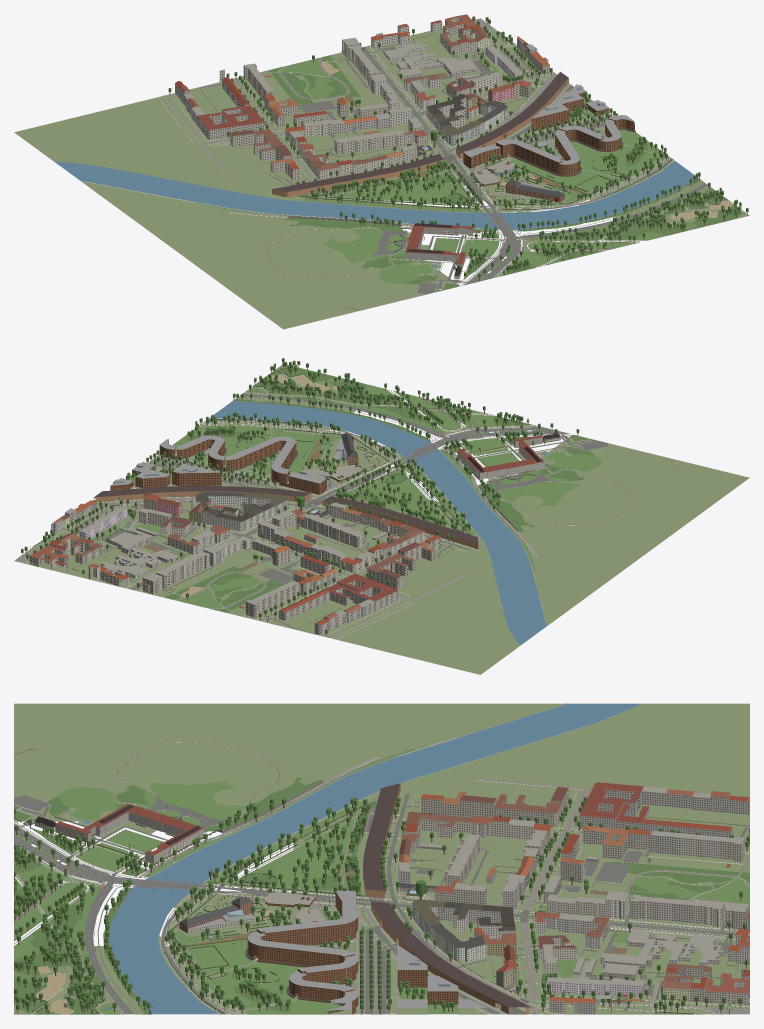
The picture shows the model from 3 angles, top to bottom: view 1: azimuth 30°, elevation 25°; view 2: azimuth 150°, elevation 25°; view 3: azimuth 270°, elevation 25°; orthographic projection. The views are drawn at different scales.
Size of the model in its own units: 750 by 24.16 by 750.
3 materials, 1 textured.
